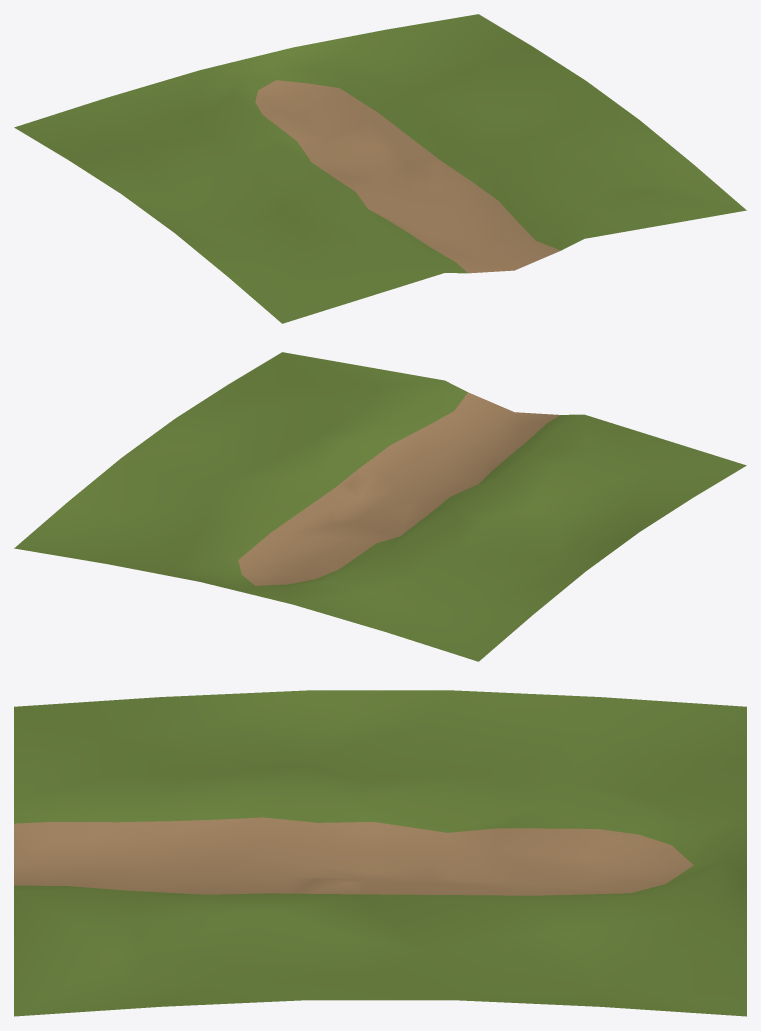
File: rpgpp_av_terrain_path_07_10x10m.gltf
3 renders of one model, top to bottom at view 1: azimuth 30°, elevation 25°; view 2: azimuth 150°, elevation 25°; view 3: azimuth 270°, elevation 25°, orthographic. The views are drawn at different scales.
Visible parts, largest first — view 1: rpgpp_av_terrain_path_07_10x10m; view 2: rpgpp_av_terrain_path_07_10x10m; view 3: rpgpp_av_terrain_path_07_10x10m.
Boxes of the visible parts, left/top/right/bottom form: rpgpp_av_terrain_path_07_10x10m: left=14, top=14, right=746, bottom=323; rpgpp_av_terrain_path_07_10x10m: left=14, top=352, right=746, bottom=661; rpgpp_av_terrain_path_07_10x10m: left=14, top=690, right=746, bottom=1016.
Size of the model in its own units: 0.1 by 0.00358 by 0.1.
1 material, 1 textured.
